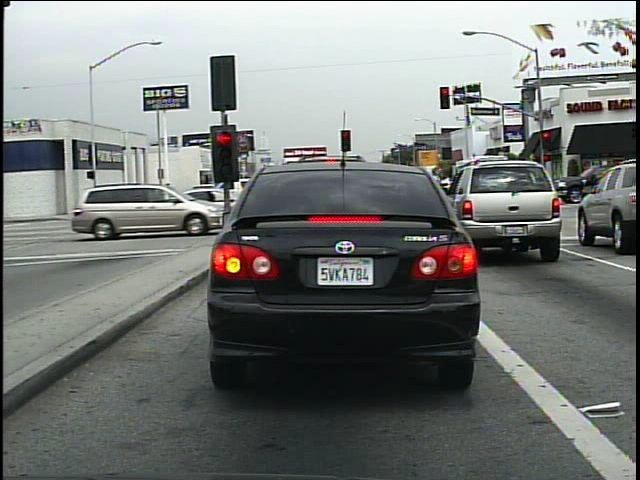person: (156, 178, 178, 216)
